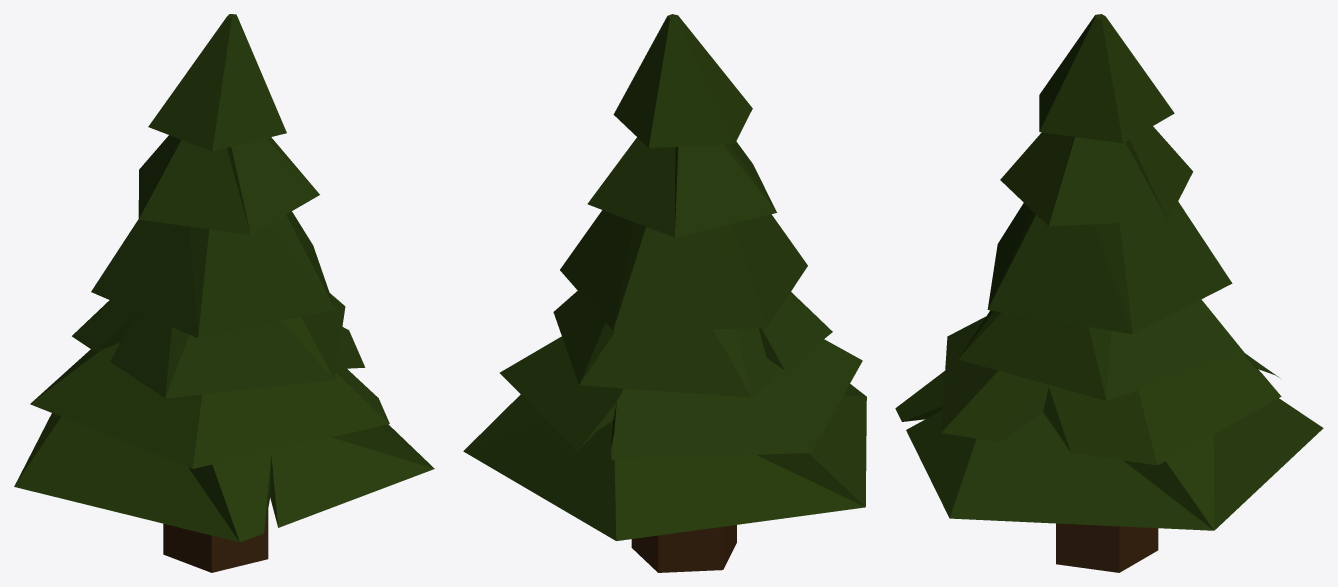
File: LowpolyTreeColection1_tanne.fbx
The picture shows the model from 3 angles, left to right: view 1: azimuth 30°, elevation 25°; view 2: azimuth 150°, elevation 25°; view 3: azimuth 270°, elevation 25°; orthographic projection.
Visible parts, largest first — view 1: Tanne01; view 2: Tanne01; view 3: Tanne01.
Part boxes in pixels (left/top/right/bottom): Tanne01: left=14, top=14, right=434, bottom=572; Tanne01: left=463, top=14, right=866, bottom=572; Tanne01: left=895, top=14, right=1323, bottom=572.
Size of what is drawn, in the model's own units: 746 by 1055 by 757.
